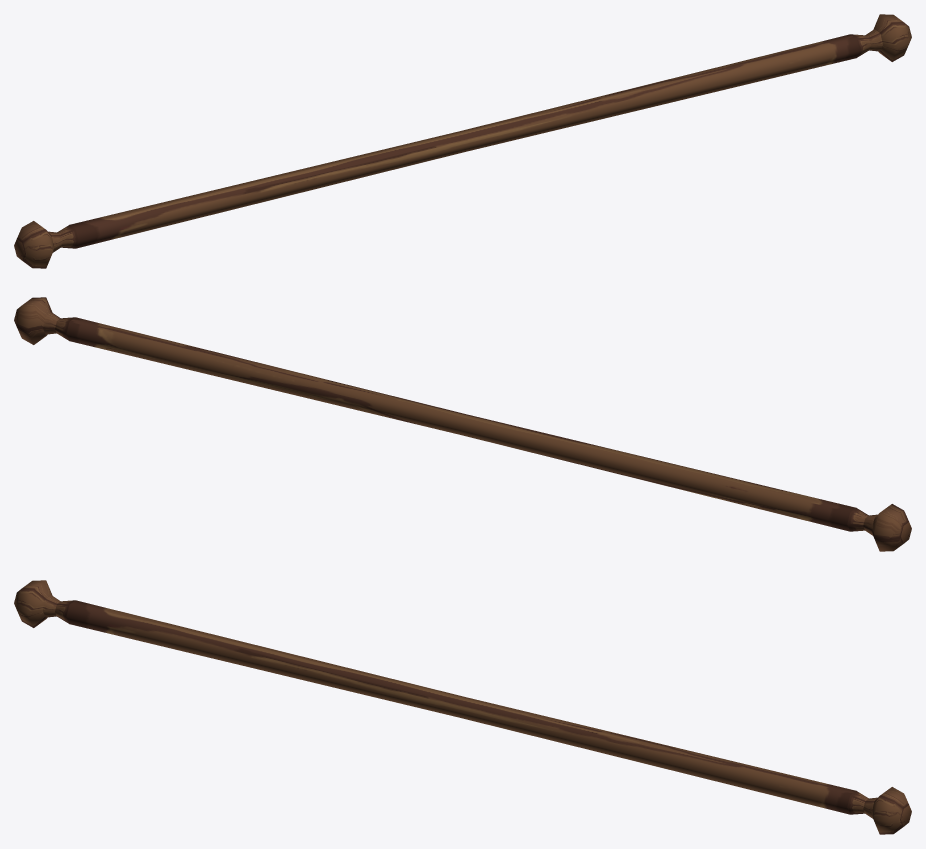
The model's file is SM_PROP_curtainrod_interior.fbx.
3 views of the same model, one above another, from view 1: azimuth 30°, elevation 25°; view 2: azimuth 150°, elevation 25°; view 3: azimuth 330°, elevation 25° (orthographic).
Parts seen in each view (by area): view 1: SM_PROP_curtainrod_interior; view 2: SM_PROP_curtainrod_interior; view 3: SM_PROP_curtainrod_interior.
Part boxes in pixels (x1,y1,x2,y2): SM_PROP_curtainrod_interior: (14,14,911,268); SM_PROP_curtainrod_interior: (14,297,911,551); SM_PROP_curtainrod_interior: (14,580,911,834).
Bounding box in the file's own units: 258 × 10.83 × 12.51.
